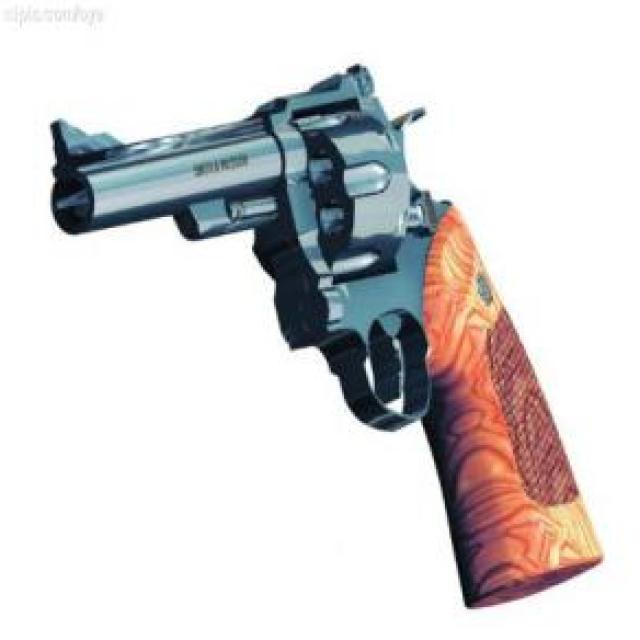pistol: (46, 63, 597, 614)
